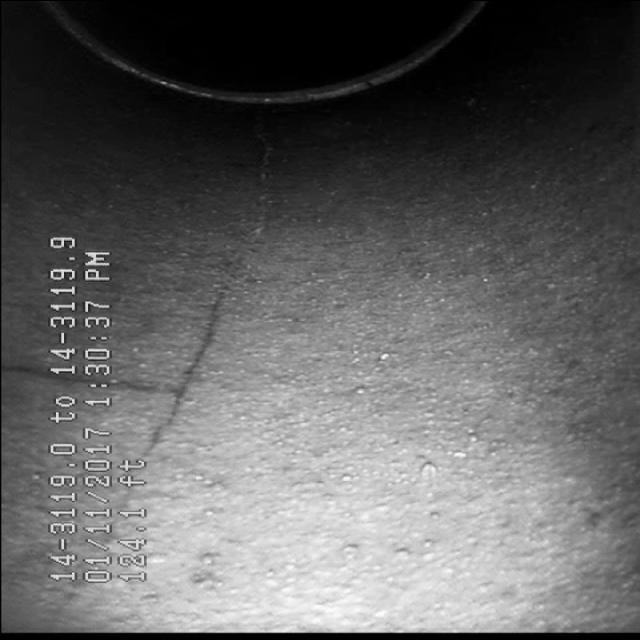Crack: (148, 174, 308, 405)
